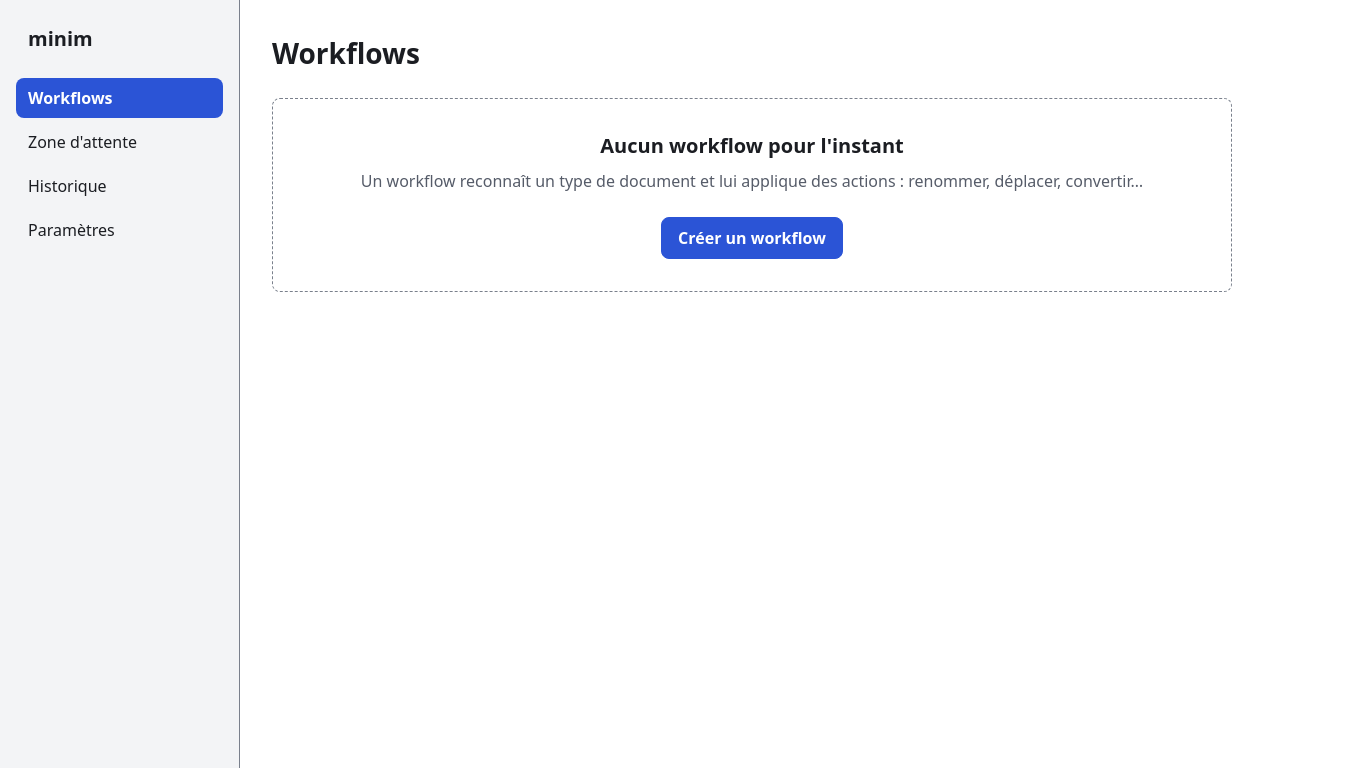
Test case: WizardScreen › keeps the draft when switching sections
This screenshot has width=1366, height=768.
Click the button "Créer un workflow": click(752, 238) [661,217,843,259]
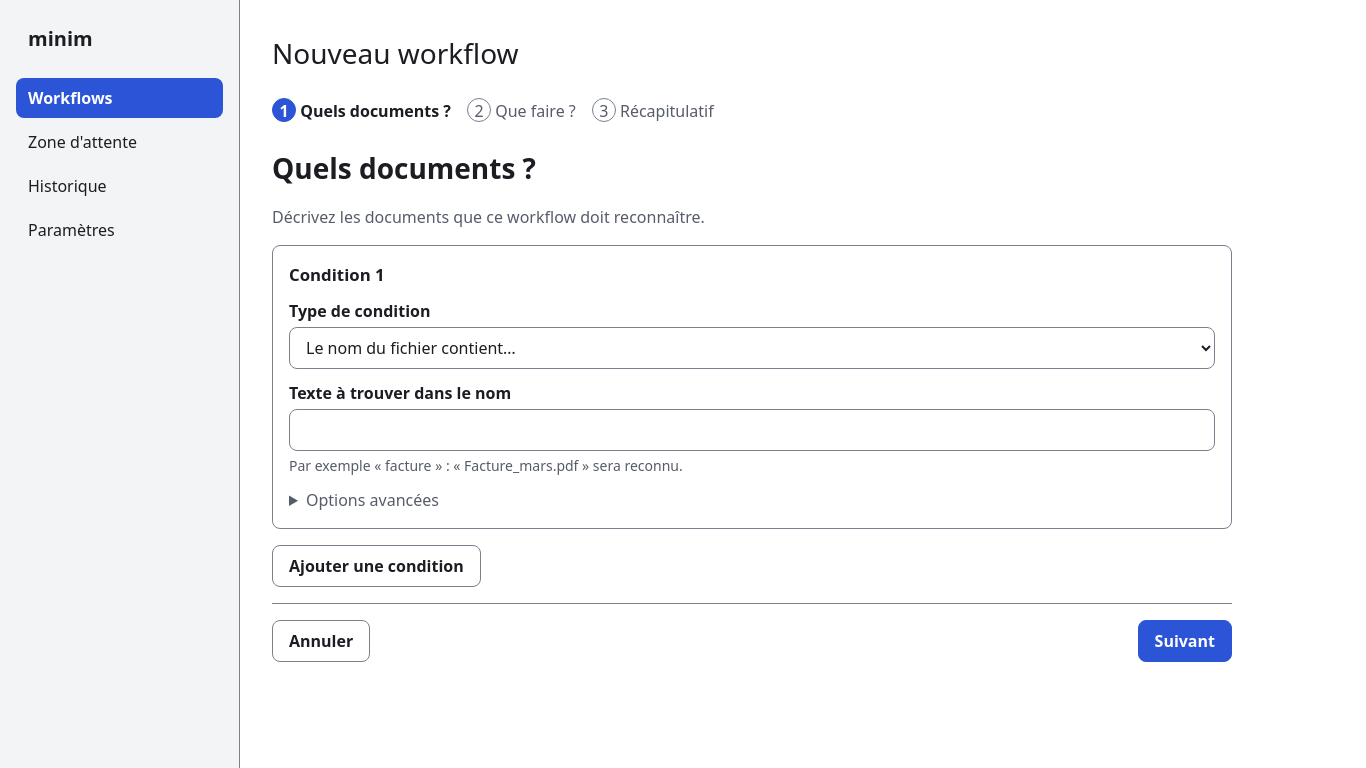
In the field labelled "Texte à trouver dans le nom": (752, 430) [289,409,1215,451], type "facture"
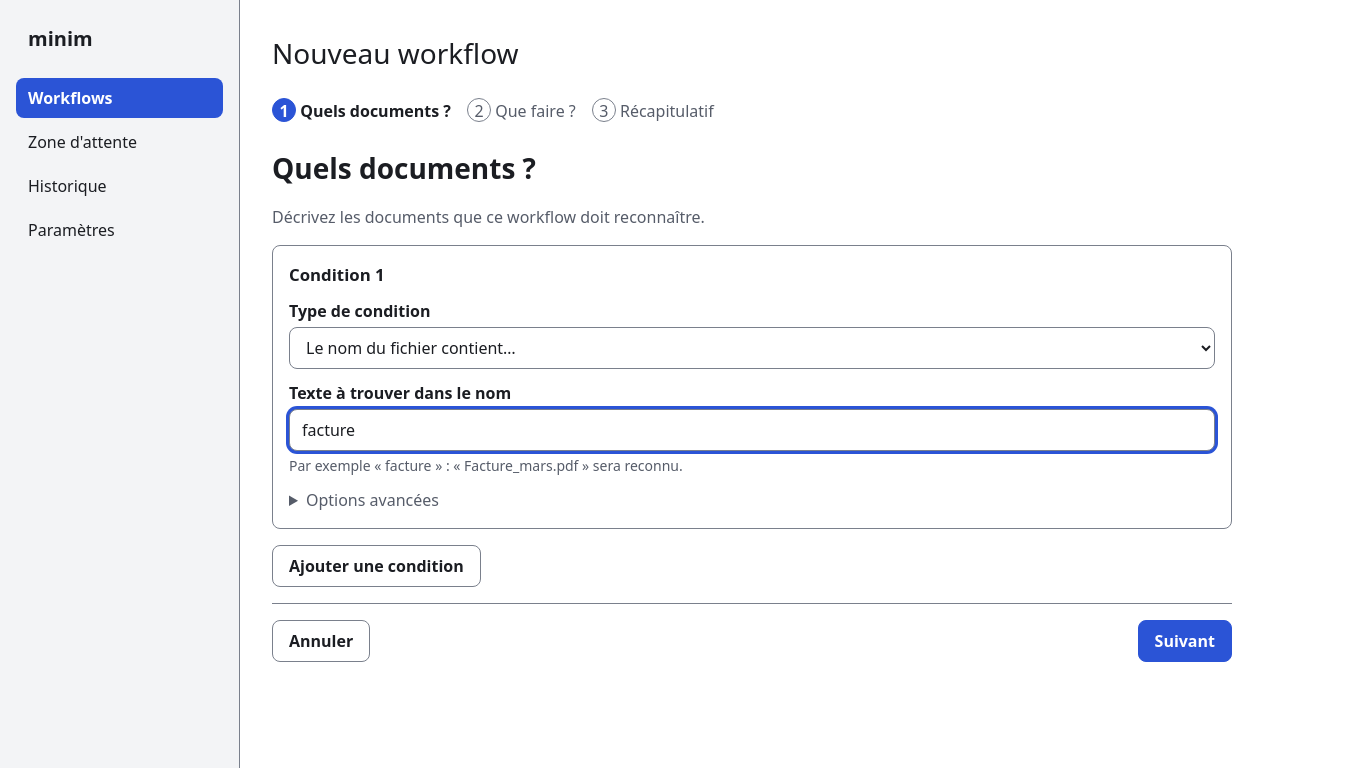
Click the button "Historique": click(120, 186) [16,166,223,206]
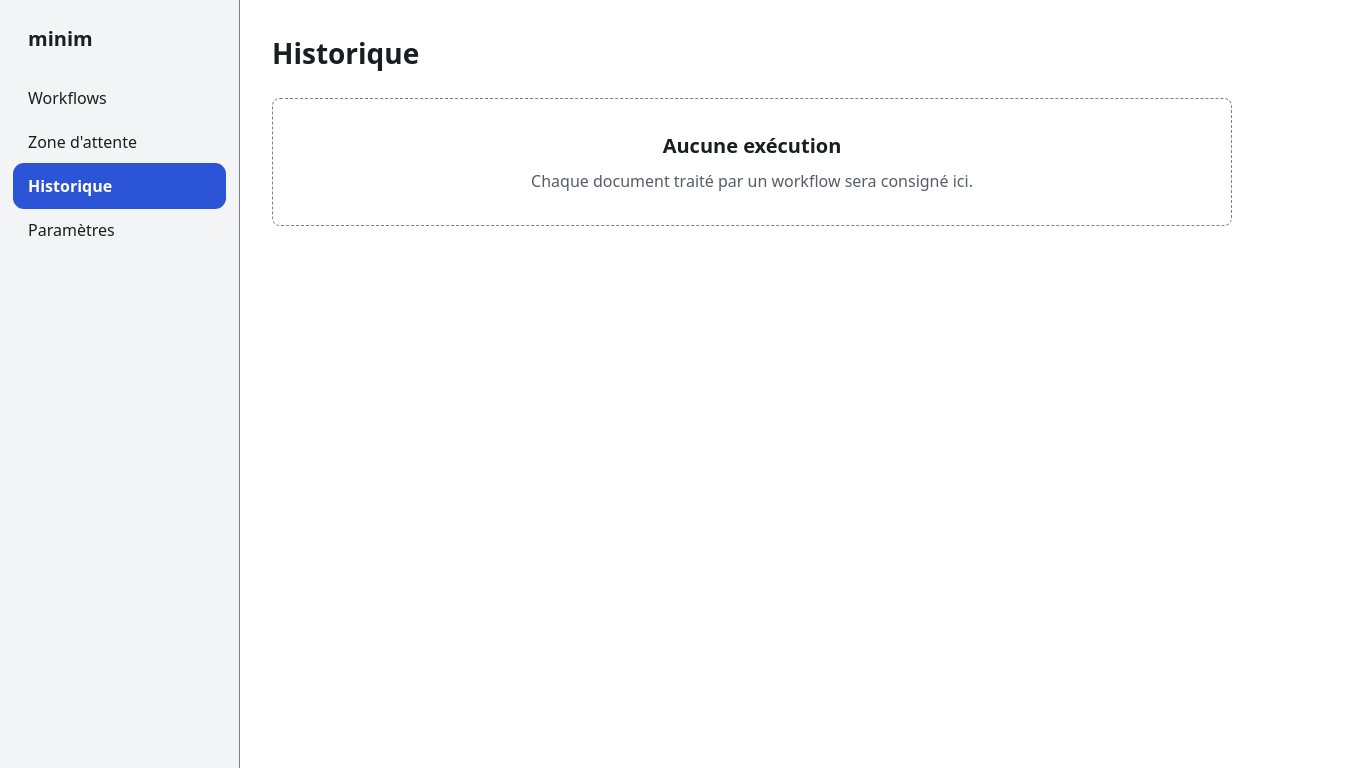
Click the button "Workflows": click(120, 98) [16,78,223,118]
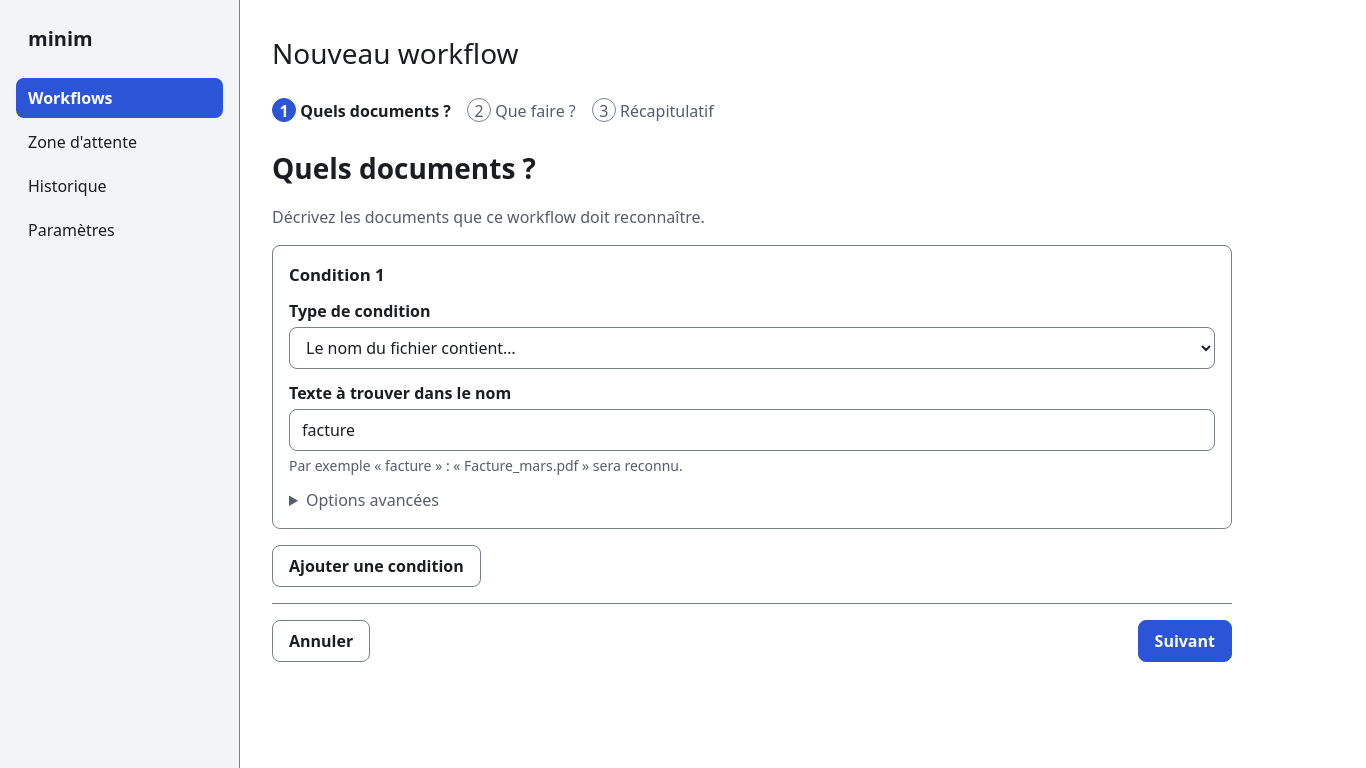
Check: the field labelled "Texte à trouver dans le nom" holds "facture", box [289,409,1215,451]
